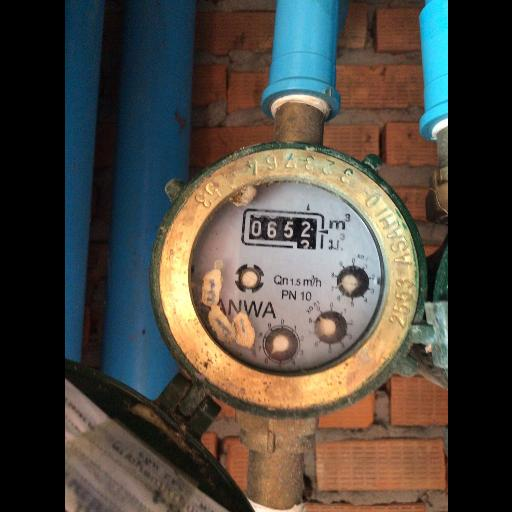0: (248, 215, 264, 240)
2: (296, 218, 316, 250)
5: (278, 217, 298, 242)
6: (262, 216, 280, 241)
border_water_meter_number: (240, 208, 325, 250)
